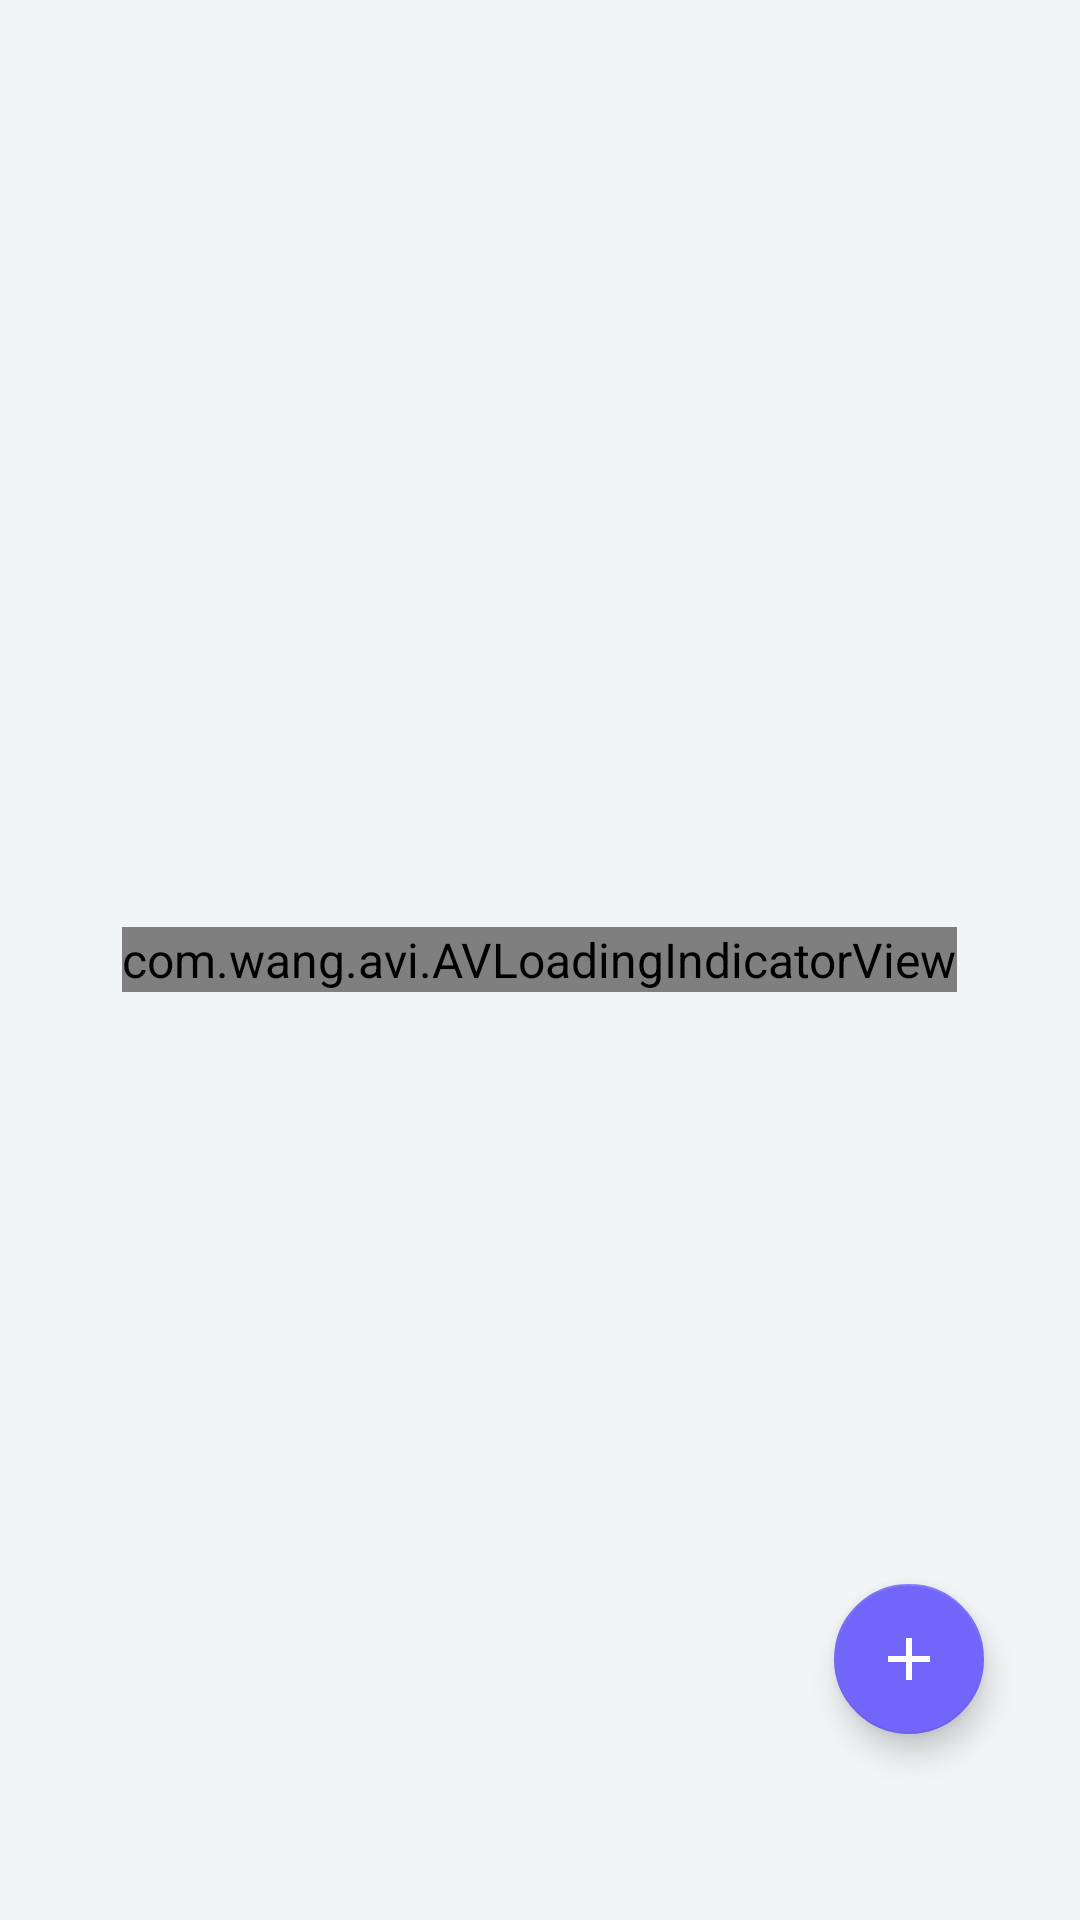

Icons on this 1080 × 1920 Android screen, each with the point to tap as point (x, y):
add: point (909, 1659)
